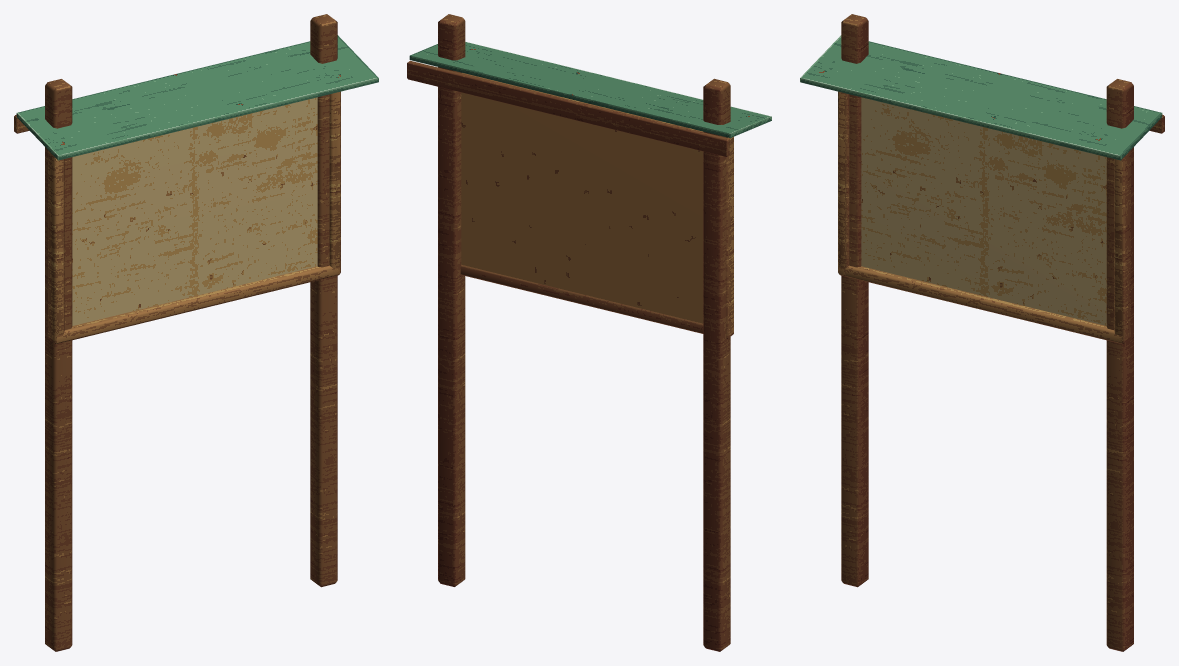
The model's file is notice_board.glb.
The picture shows the model from 3 angles, left to right: view 1: azimuth 30°, elevation 25°; view 2: azimuth 150°, elevation 25°; view 3: azimuth 330°, elevation 25°; orthographic projection.
Visible parts, largest first — view 1: mesh; view 2: mesh; view 3: mesh.
Boxes of the visible parts, box(x1,y1,x2,y2) form: mesh: box(14, 14, 378, 651); mesh: box(407, 14, 771, 651); mesh: box(800, 14, 1164, 651).
Bounding box in the file's own units: 1.16 × 1.95 × 0.2799.
Materials: 1 (1 with a texture image).
